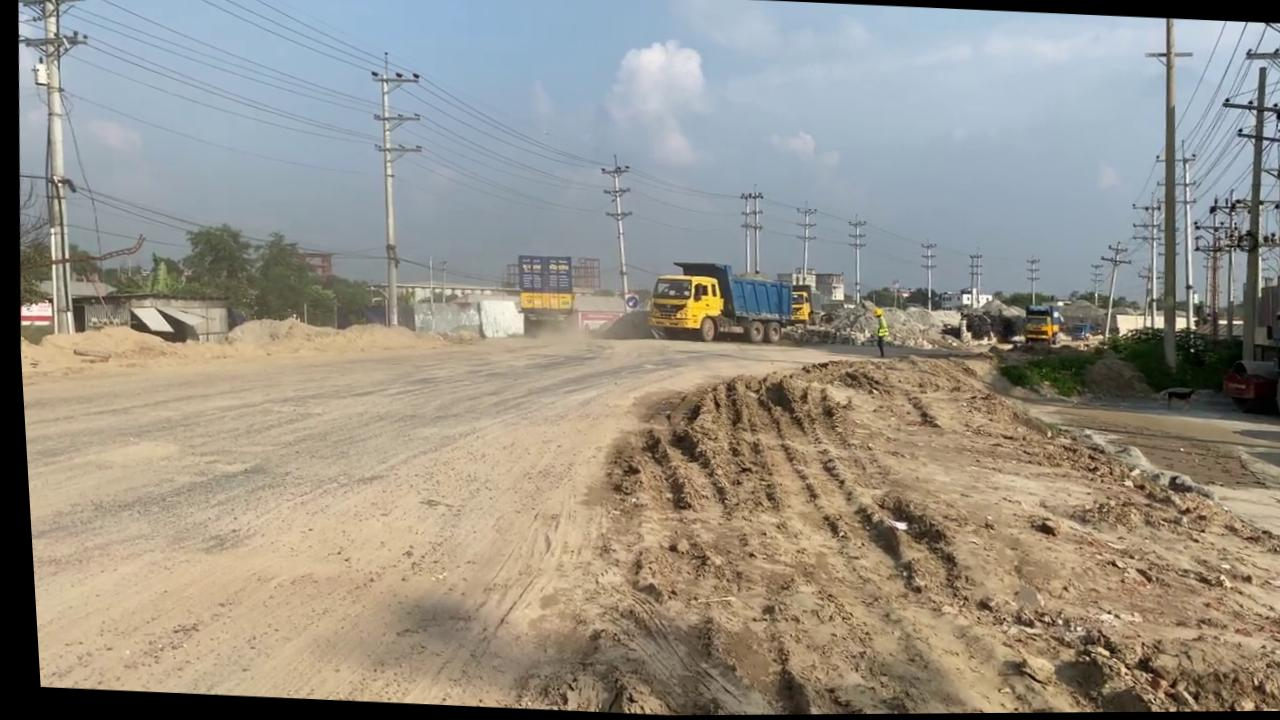Dog: (1151, 387, 1190, 413)
Muddy road: (585, 377, 1280, 717)
Pole: (0, 0, 104, 335), (1125, 20, 1208, 374), (1204, 55, 1280, 366)
Traffic-sign: (173, 220, 255, 314)
Tree: (638, 258, 812, 348), (1211, 305, 1280, 424), (775, 280, 878, 349), (1015, 305, 1060, 348)
